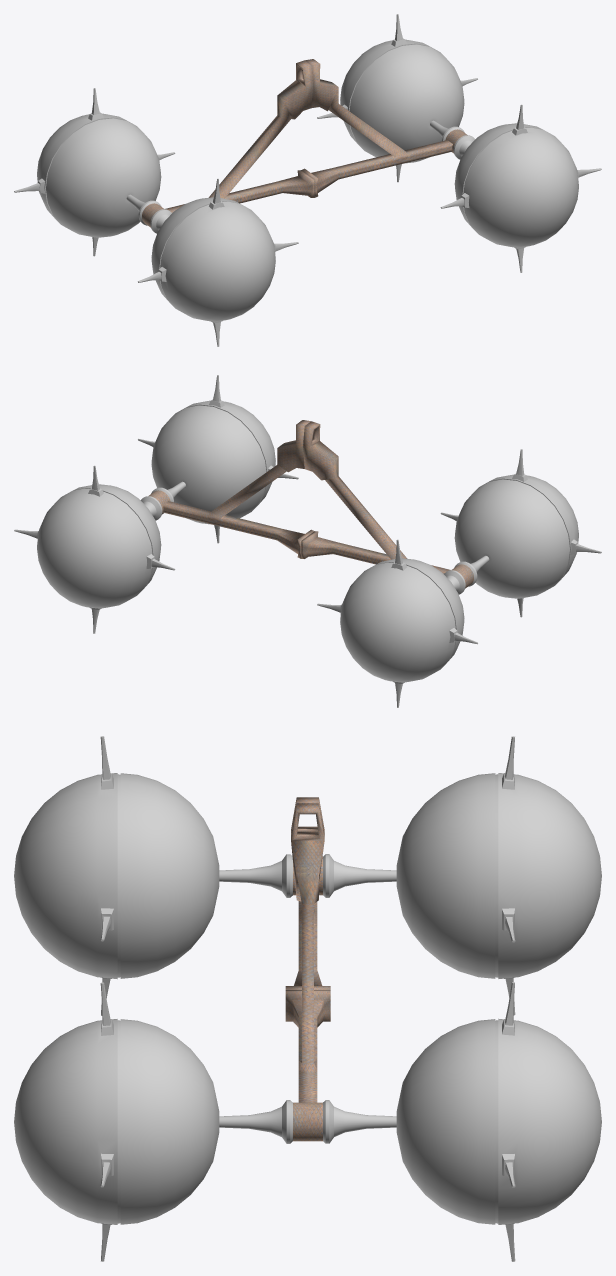
File: Ball Bank.fbx
The picture shows the model from 3 angles, top to bottom: view 1: azimuth 30°, elevation 25°; view 2: azimuth 150°, elevation 25°; view 3: azimuth 270°, elevation 25°; orthographic projection. The views are drawn at different scales.
Visible parts, largest first — view 1: Cylinder_001; view 2: Cylinder_001; view 3: Cylinder_001.
Part boxes in pixels (box(x1,y1,x2,y2)): Cylinder_001: box(14, 14, 601, 346); Cylinder_001: box(14, 375, 601, 707); Cylinder_001: box(14, 736, 601, 1261).
Size of the model in its own units: 422 by 176 by 279.
